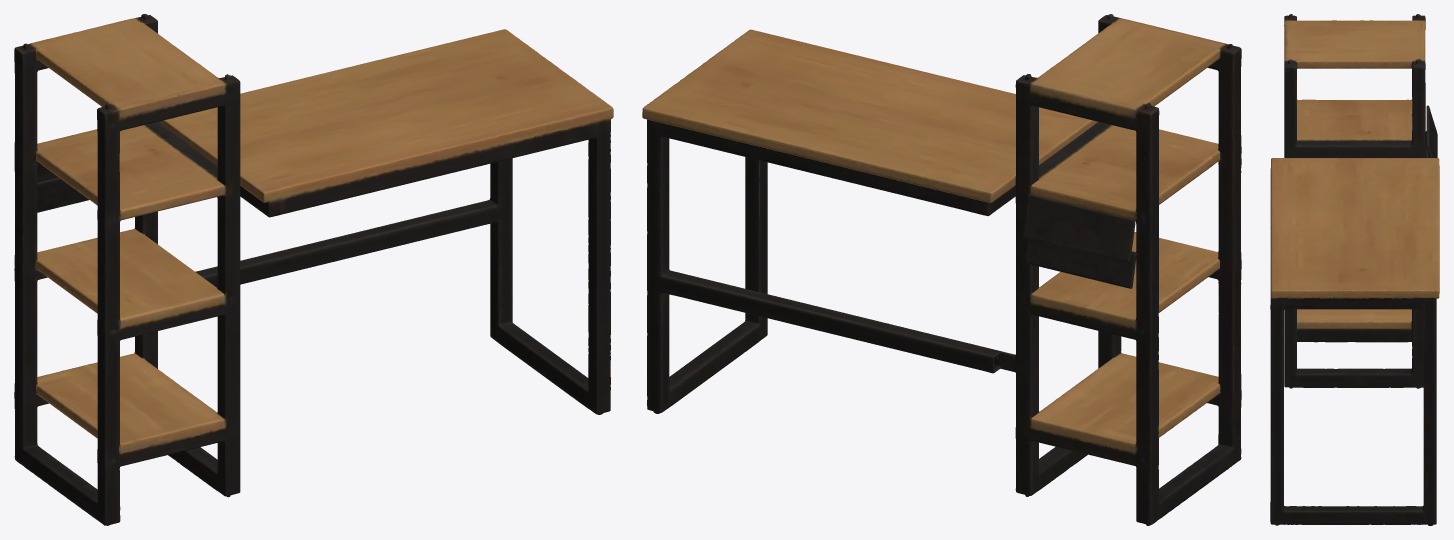
Rendered from tv-stand.glb.
3 renders of one model, left to right at view 1: azimuth 30°, elevation 25°; view 2: azimuth 150°, elevation 25°; view 3: azimuth 270°, elevation 25°, orthographic. The views are drawn at different scales.
Visible parts, largest first — view 1: world.004; view 2: world.004; view 3: world.004.
Boxes of the visible parts, <box> form: world.004: <box>14,14,613,525</box>; world.004: <box>642,14,1241,525</box>; world.004: <box>1270,14,1439,525</box>.
Size of the model in its own units: 1.82 by 1.46 by 0.6831.
Materials: 1 (1 with a texture image).
